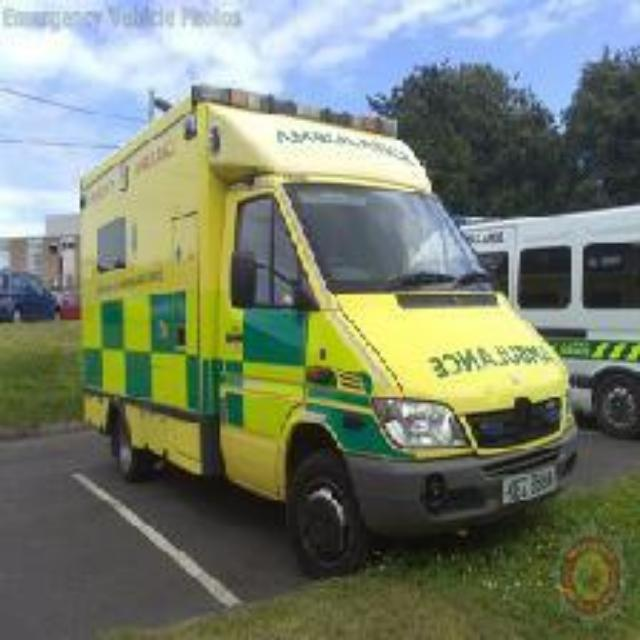emergency: (59, 94, 593, 558)
